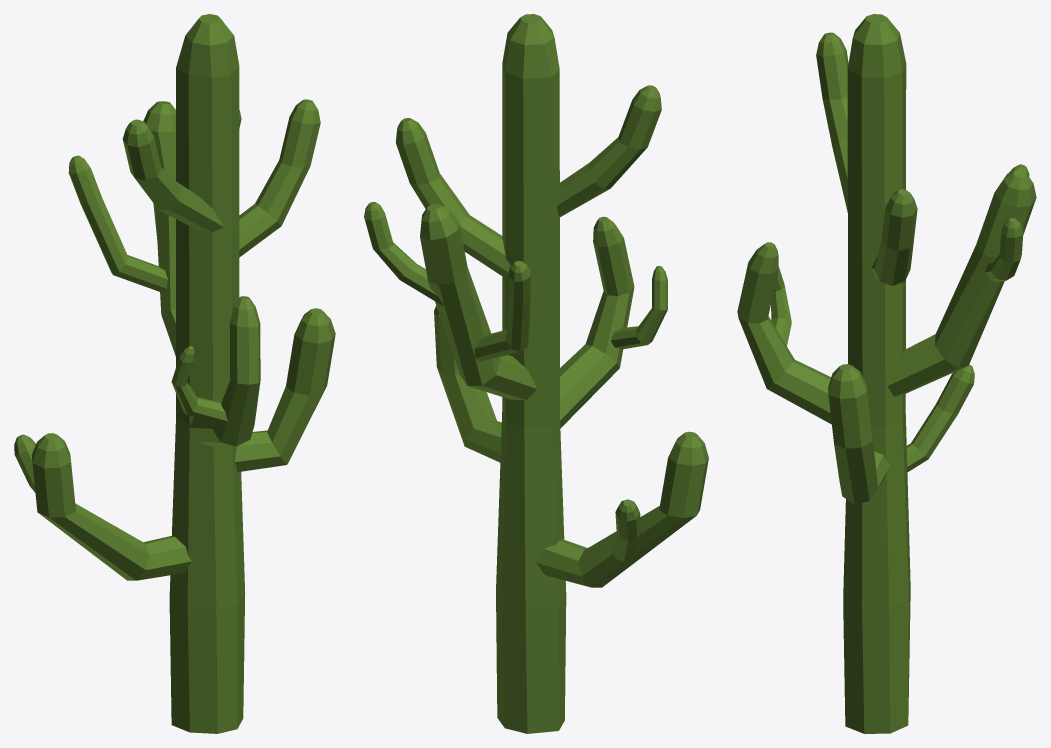
Rendered from Cactus_9.fbx.
3 renders of one model, left to right at view 1: azimuth 30°, elevation 25°; view 2: azimuth 150°, elevation 25°; view 3: azimuth 270°, elevation 25°, orthographic.
Visible parts, largest first — view 1: Cactus_9; view 2: Cactus_9; view 3: Cactus_9.
Boxes of the visible parts, bbox=[...] form: Cactus_9: bbox=[14, 14, 335, 733]; Cactus_9: bbox=[364, 14, 708, 733]; Cactus_9: bbox=[737, 14, 1036, 733].
Bounding box in the file's own units: 162 × 141 × 364.
